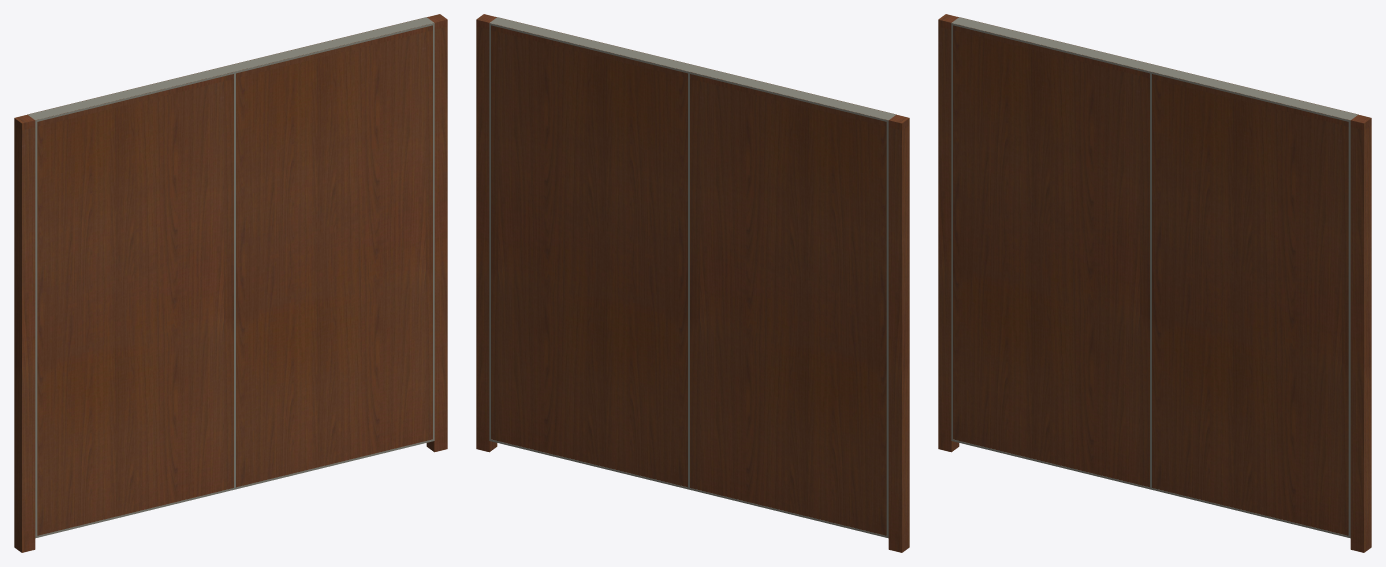
File: ABF5-H1800_walnut.fbx
3 renders of one model, left to right at view 1: azimuth 30°, elevation 25°; view 2: azimuth 150°, elevation 25°; view 3: azimuth 330°, elevation 25°, orthographic.
Parts seen in each view (by area): view 1: ABF5-H1800_walnut; view 2: ABF5-H1800_walnut; view 3: ABF5-H1800_walnut.
Boxes of the visible parts, x1=… form: ABF5-H1800_walnut: x1=14, y1=14, x2=447, y2=552; ABF5-H1800_walnut: x1=476, y1=14, x2=909, y2=552; ABF5-H1800_walnut: x1=938, y1=14, x2=1371, y2=552.
Size of the model in its own units: 192 by 185 by 6.4.
4 materials, 3 textured.
